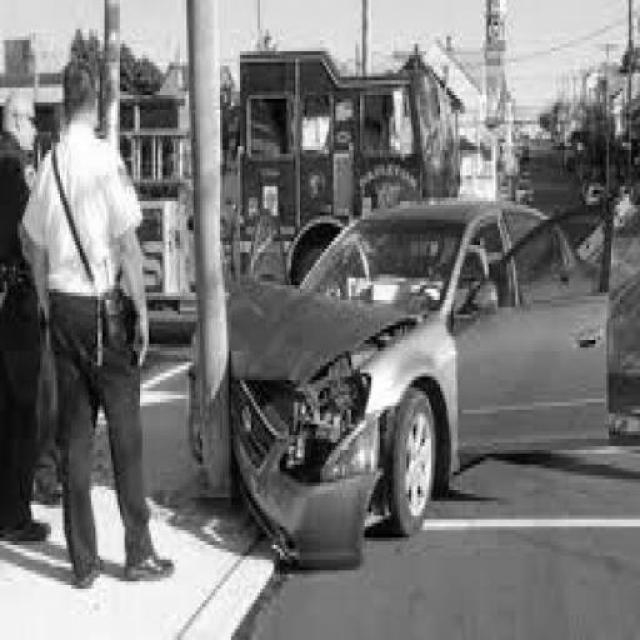crush: (227, 311, 417, 584)
